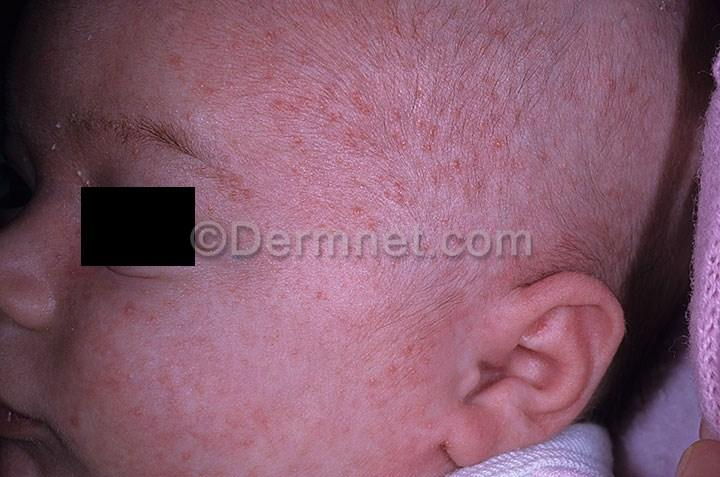edema 1: (64, 0, 688, 476)
xerosis 1: (46, 108, 104, 193)
